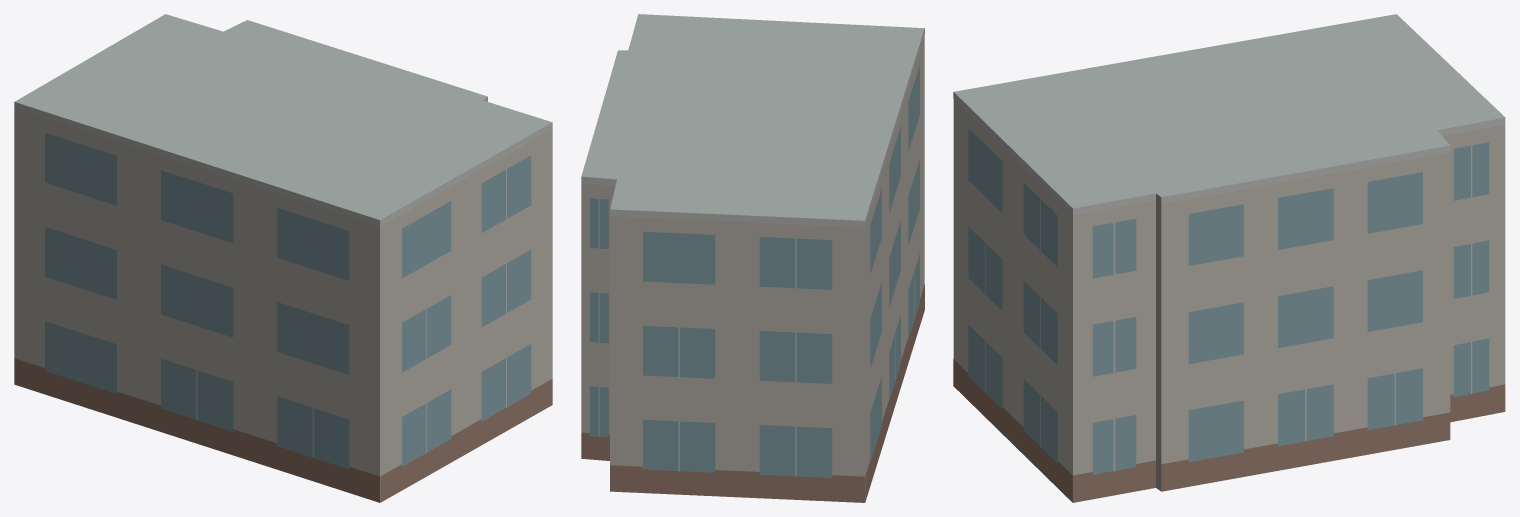
File: survey-upis-32993026.glb
3 views of the same model, side by side, from view 1: azimuth 30°, elevation 25°; view 2: azimuth 150°, elevation 25°; view 3: azimuth 270°, elevation 25° (orthographic). The views are drawn at different scales.
Parts seen in each view (by area): view 1: survey-upis-32993026.tmp; view 2: survey-upis-32993026.tmp; view 3: survey-upis-32993026.tmp.
Boxes of the visible parts, left/top/right/bottom form: survey-upis-32993026.tmp: left=14, top=14, right=552, bottom=502; survey-upis-32993026.tmp: left=581, top=14, right=924, bottom=502; survey-upis-32993026.tmp: left=953, top=14, right=1505, bottom=502.
Size of the model in its own units: 14.46 by 10.2 by 17.34.
